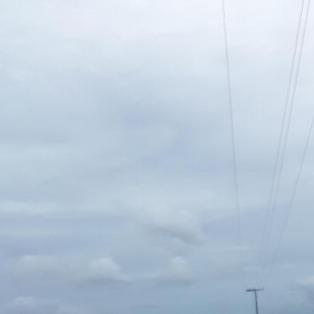Poste: (295, 0, 314, 314)
